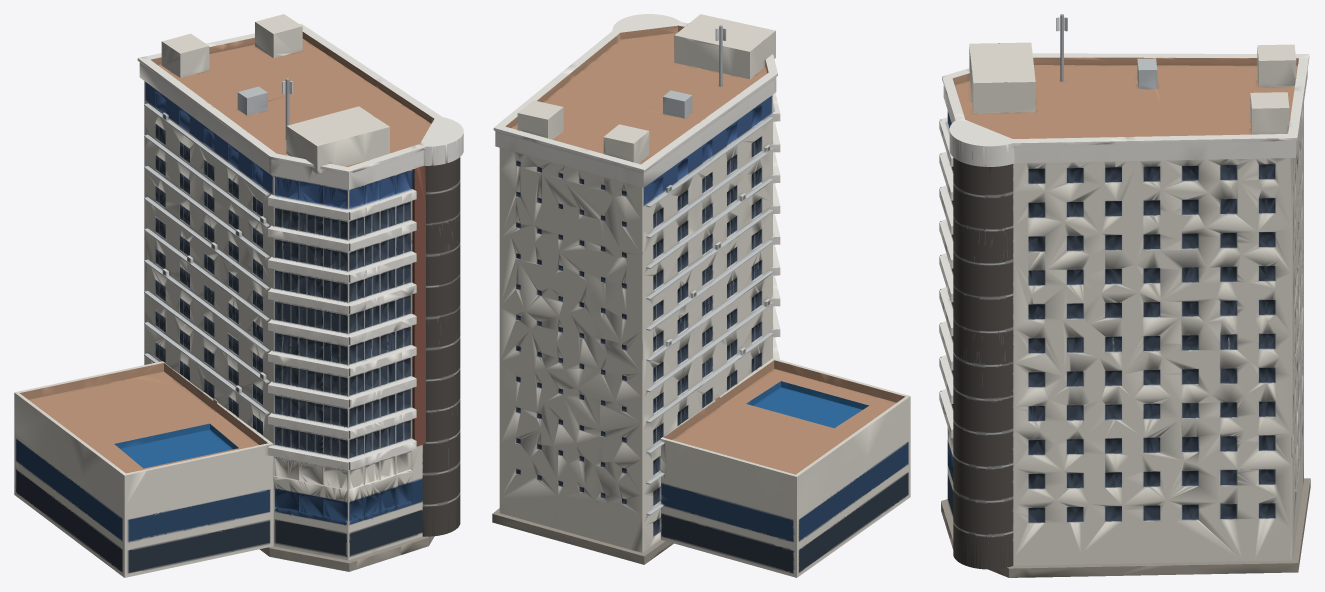
File: khach_san_buu_dien.glb
The picture shows the model from 3 angles, left to right: view 1: azimuth 30°, elevation 25°; view 2: azimuth 150°, elevation 25°; view 3: azimuth 270°, elevation 25°; orthographic projection. The views are drawn at different scales.
Parts seen in each view (by area): view 1: khach_san_buu_dien; view 2: khach_san_buu_dien; view 3: khach_san_buu_dien.
Part boxes in pixels (bbox=[...]): khach_san_buu_dien: bbox=[14, 14, 463, 577]; khach_san_buu_dien: bbox=[492, 14, 910, 577]; khach_san_buu_dien: bbox=[939, 14, 1310, 577].
Size of the model in its own units: 38.08 by 52.3 by 35.71.
2 materials, 2 textured.
